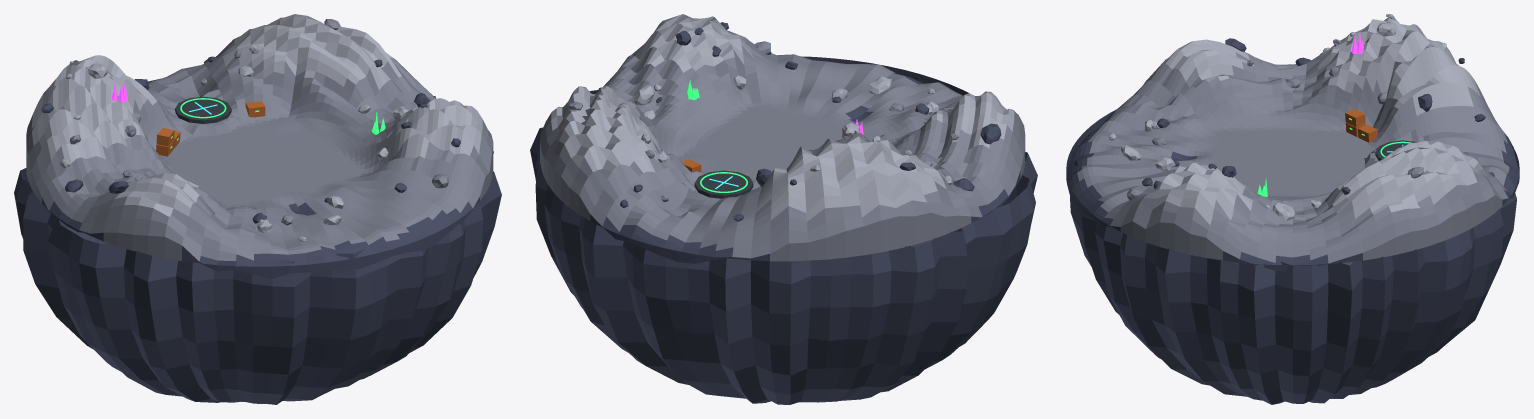
File: Mapa.glb
3 views of the same model, side by side, from view 1: azimuth 30°, elevation 25°; view 2: azimuth 150°, elevation 25°; view 3: azimuth 270°, elevation 25° (orthographic). The views are drawn at different scales.
Visible parts, largest first — view 1: SUPERFICIE_LUNAR, CUERPO_LUNA_K04, PLATAFORMA; view 2: SUPERFICIE_LUNAR, CUERPO_LUNA_K04, PLATAFORMA; view 3: SUPERFICIE_LUNAR, CUERPO_LUNA_K04.
Part boxes in pixels (left/top/right/bottom): SUPERFICIE_LUNAR: left=26, top=14, right=493, bottom=278; CUERPO_LUNA_K04: left=14, top=96, right=501, bottom=404; PLATAFORMA: left=175, top=96, right=231, bottom=123; SUPERFICIE_LUNAR: left=540, top=14, right=1025, bottom=263; CUERPO_LUNA_K04: left=530, top=75, right=1037, bottom=404; PLATAFORMA: left=694, top=170, right=753, bottom=198; SUPERFICIE_LUNAR: left=1066, top=17, right=1519, bottom=271; CUERPO_LUNA_K04: left=1070, top=131, right=1516, bottom=404.
Size of the model in its own units: 30.6 by 21.81 by 28.9.
